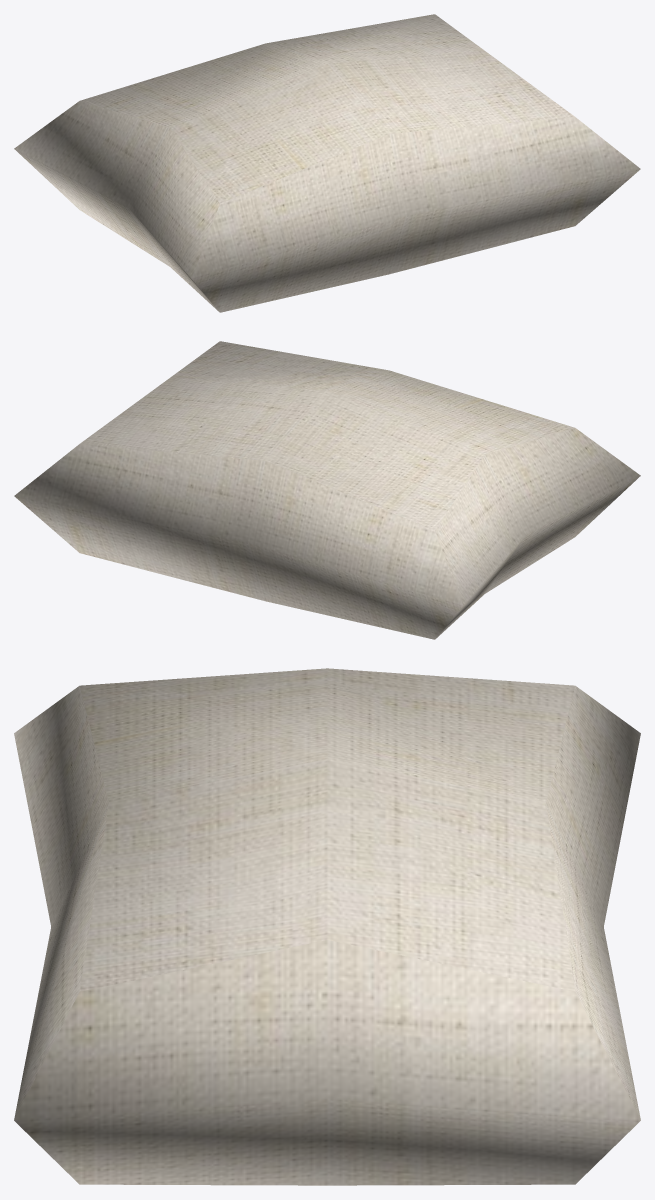
The model's file is Pillow_10.glb.
3 views of the same model, one above another, from view 1: azimuth 30°, elevation 25°; view 2: azimuth 150°, elevation 25°; view 3: azimuth 270°, elevation 25° (orthographic). The views are drawn at different scales.
Parts seen in each view (by area): view 1: Pillow_10; view 2: Pillow_10; view 3: Pillow_10.
Boxes of the visible parts, x1,y1,x2,y2 form: Pillow_10: [14, 14, 640, 312]; Pillow_10: [14, 341, 640, 639]; Pillow_10: [14, 668, 640, 1185].
Bounding box in the file's own units: 0.8745 × 0.3539 × 0.5984.
1 material, 1 textured.
